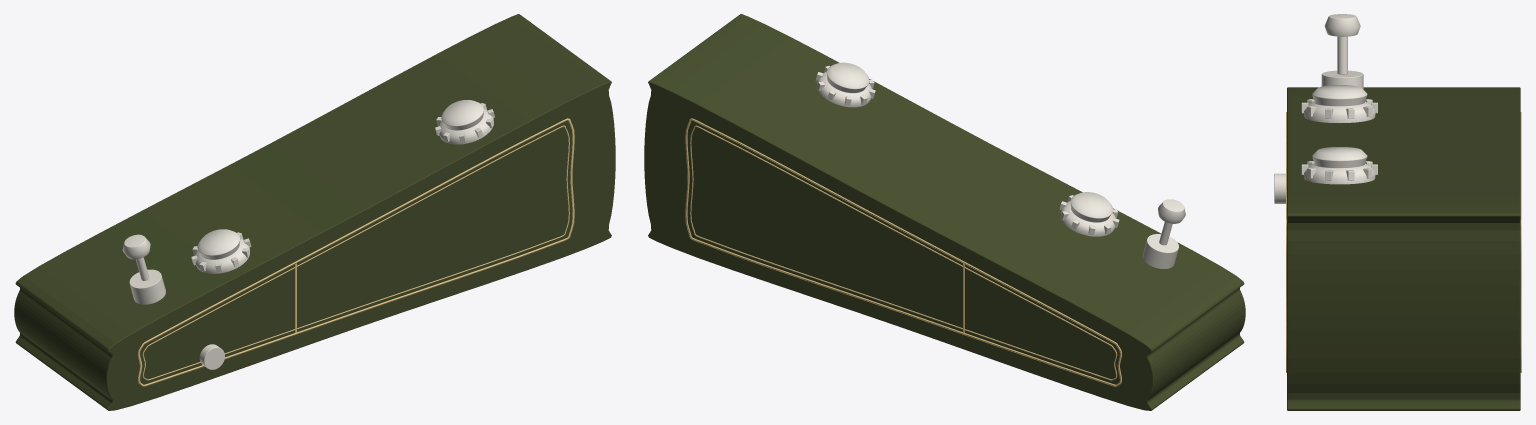
File: bike_vintage_vtwin__fuel_tank.glb
3 views of the same model, side by side, from view 1: azimuth 30°, elevation 25°; view 2: azimuth 150°, elevation 25°; view 3: azimuth 270°, elevation 25° (orthographic). The views are drawn at different scales.
Visible parts, largest first — view 1: frame_body__fuel_tank, frame_body__fuel_tank__pinstripes, frame_body__fuel_tank__filler_caps, frame_body__fuel_tank__oil_pump; view 2: frame_body__fuel_tank, frame_body__fuel_tank__pinstripes, frame_body__fuel_tank__filler_caps, frame_body__fuel_tank__oil_pump; view 3: frame_body__fuel_tank, frame_body__fuel_tank__filler_caps, frame_body__fuel_tank__oil_pump, frame_body__fuel_tank__pinstripes.
Part boxes in pixels (x1=…): frame_body__fuel_tank: x1=14, y1=14, x2=615, y2=410; frame_body__fuel_tank__pinstripes: x1=138, y1=118, x2=574, y2=386; frame_body__fuel_tank__filler_caps: x1=191, y1=100, x2=494, y2=273; frame_body__fuel_tank__oil_pump: x1=122, y1=234, x2=224, y2=369; frame_body__fuel_tank: x1=644, y1=14, x2=1245, y2=410; frame_body__fuel_tank__pinstripes: x1=685, y1=118, x2=1121, y2=386; frame_body__fuel_tank__filler_caps: x1=815, y1=62, x2=1119, y2=236; frame_body__fuel_tank__oil_pump: x1=1142, y1=199, x2=1185, y2=268; frame_body__fuel_tank: x1=1287, y1=87, x2=1520, y2=410; frame_body__fuel_tank__filler_caps: x1=1301, y1=85, x2=1377, y2=184; frame_body__fuel_tank__oil_pump: x1=1274, y1=14, x2=1363, y2=203; frame_body__fuel_tank__pinstripes: x1=1286, y1=112, x2=1521, y2=372.
Size of the model in its own units: 53.3 by 20.82 by 17.76.
